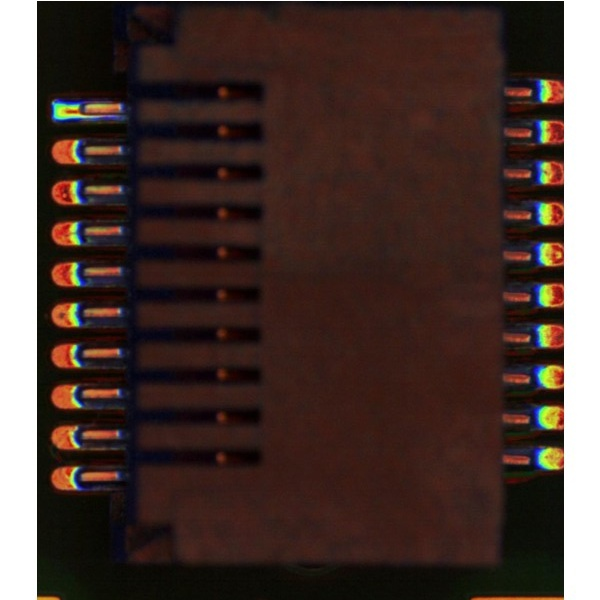Bad_qiaojiao: (82, 113, 122, 119)
